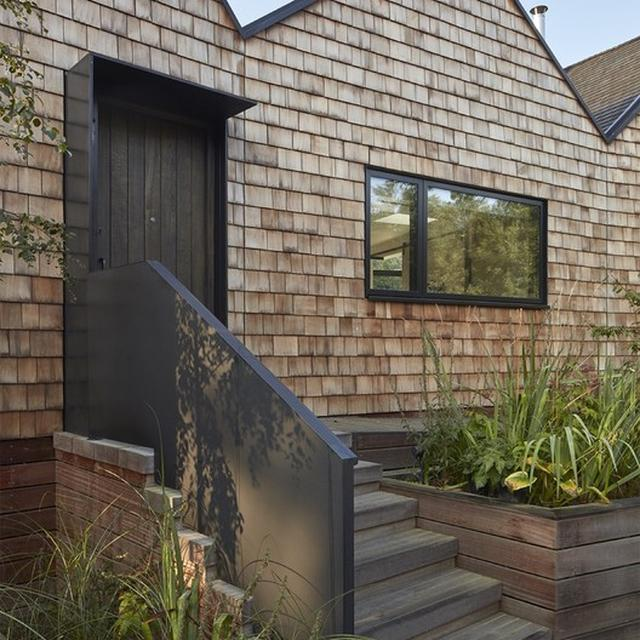building: (0, 0, 636, 454)
